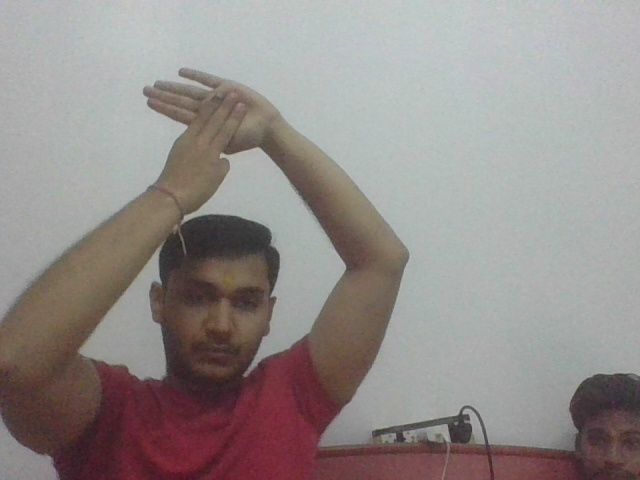M: (138, 65, 267, 174)
